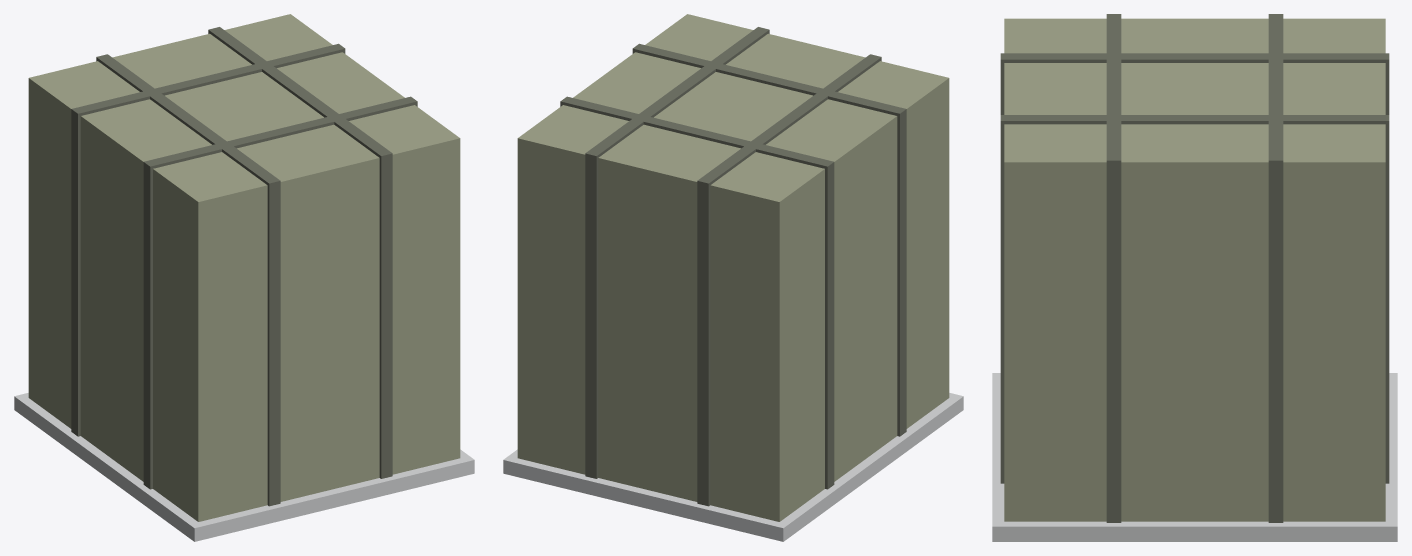
The model's file is cdsa22.glb.
3 views of the same model, side by side, from view 1: azimuth 30°, elevation 25°; view 2: azimuth 150°, elevation 25°; view 3: azimuth 270°, elevation 25° (orthographic). The views are drawn at different scales.
Parts seen in each view (by area): view 1: cdsa22-body; view 2: cdsa22-body; view 3: cdsa22-body.
Part boxes in pixels (x1,y1,x2,y2): cdsa22-body: [14, 14, 474, 541]; cdsa22-body: [503, 14, 963, 541]; cdsa22-body: [992, 14, 1397, 541].
Bounding box in the file's own units: 1.22 × 1.4 × 1.36.
